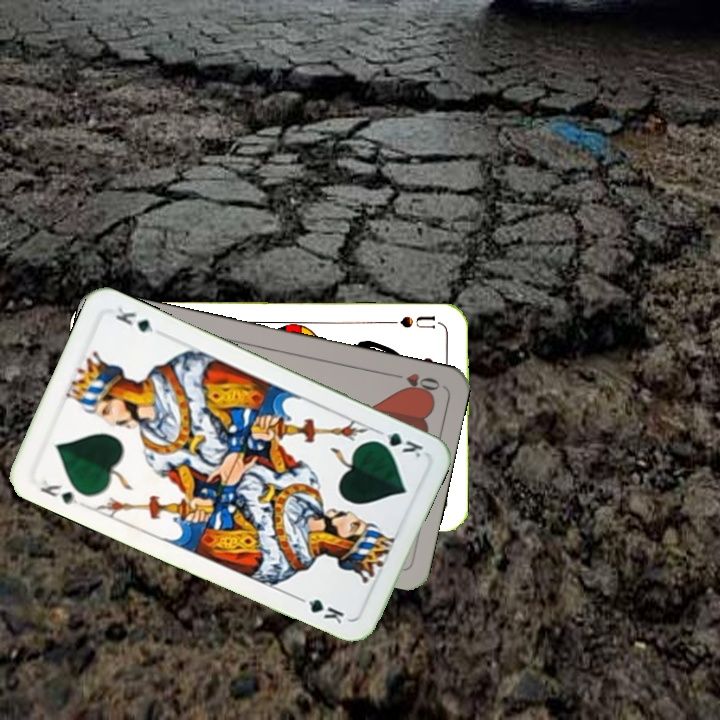GK: (368, 425, 426, 461), (36, 475, 86, 509)
HO: (385, 368, 443, 397)
SU: (384, 311, 443, 331)
